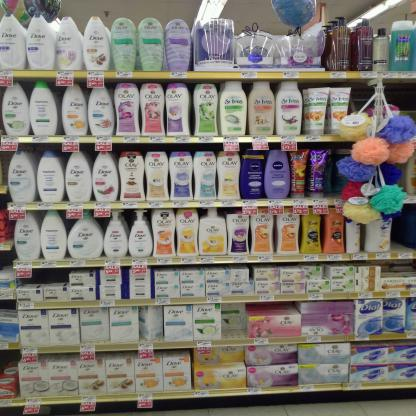Void: (384, 83, 414, 111), (398, 207, 415, 251), (35, 270, 67, 282)
